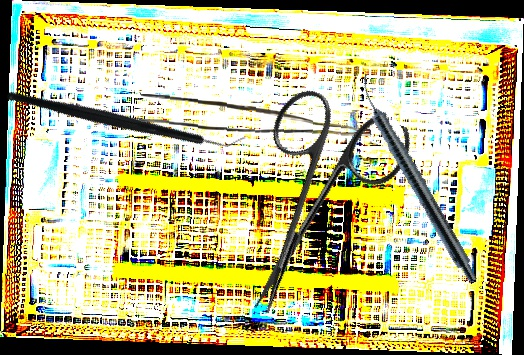Chopper: (5, 15, 248, 221)
Handpiece: (349, 73, 485, 286)
Iris Scissors: (202, 77, 418, 340)
Tissue Forceps: (138, 93, 373, 137)
